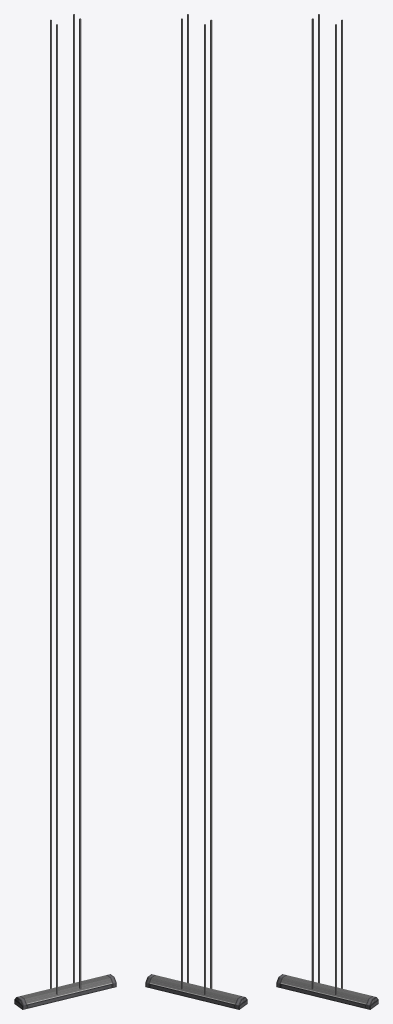
The model's file is Cit_LightStripC.FBX.
The picture shows the model from 3 angles, left to right: view 1: azimuth 30°, elevation 25°; view 2: azimuth 150°, elevation 25°; view 3: azimuth 330°, elevation 25°; orthographic projection.
Visible parts, largest first — view 1: Cit_LightStripC; view 2: Cit_LightStripC; view 3: Cit_LightStripC.
Boxes of the visible parts, left/top/right/bottom form: Cit_LightStripC: left=14, top=14, right=116, bottom=1009; Cit_LightStripC: left=145, top=14, right=247, bottom=1009; Cit_LightStripC: left=276, top=14, right=378, bottom=1009.
Size of the model in its own units: 1.96 by 19.46 by 0.3008.
